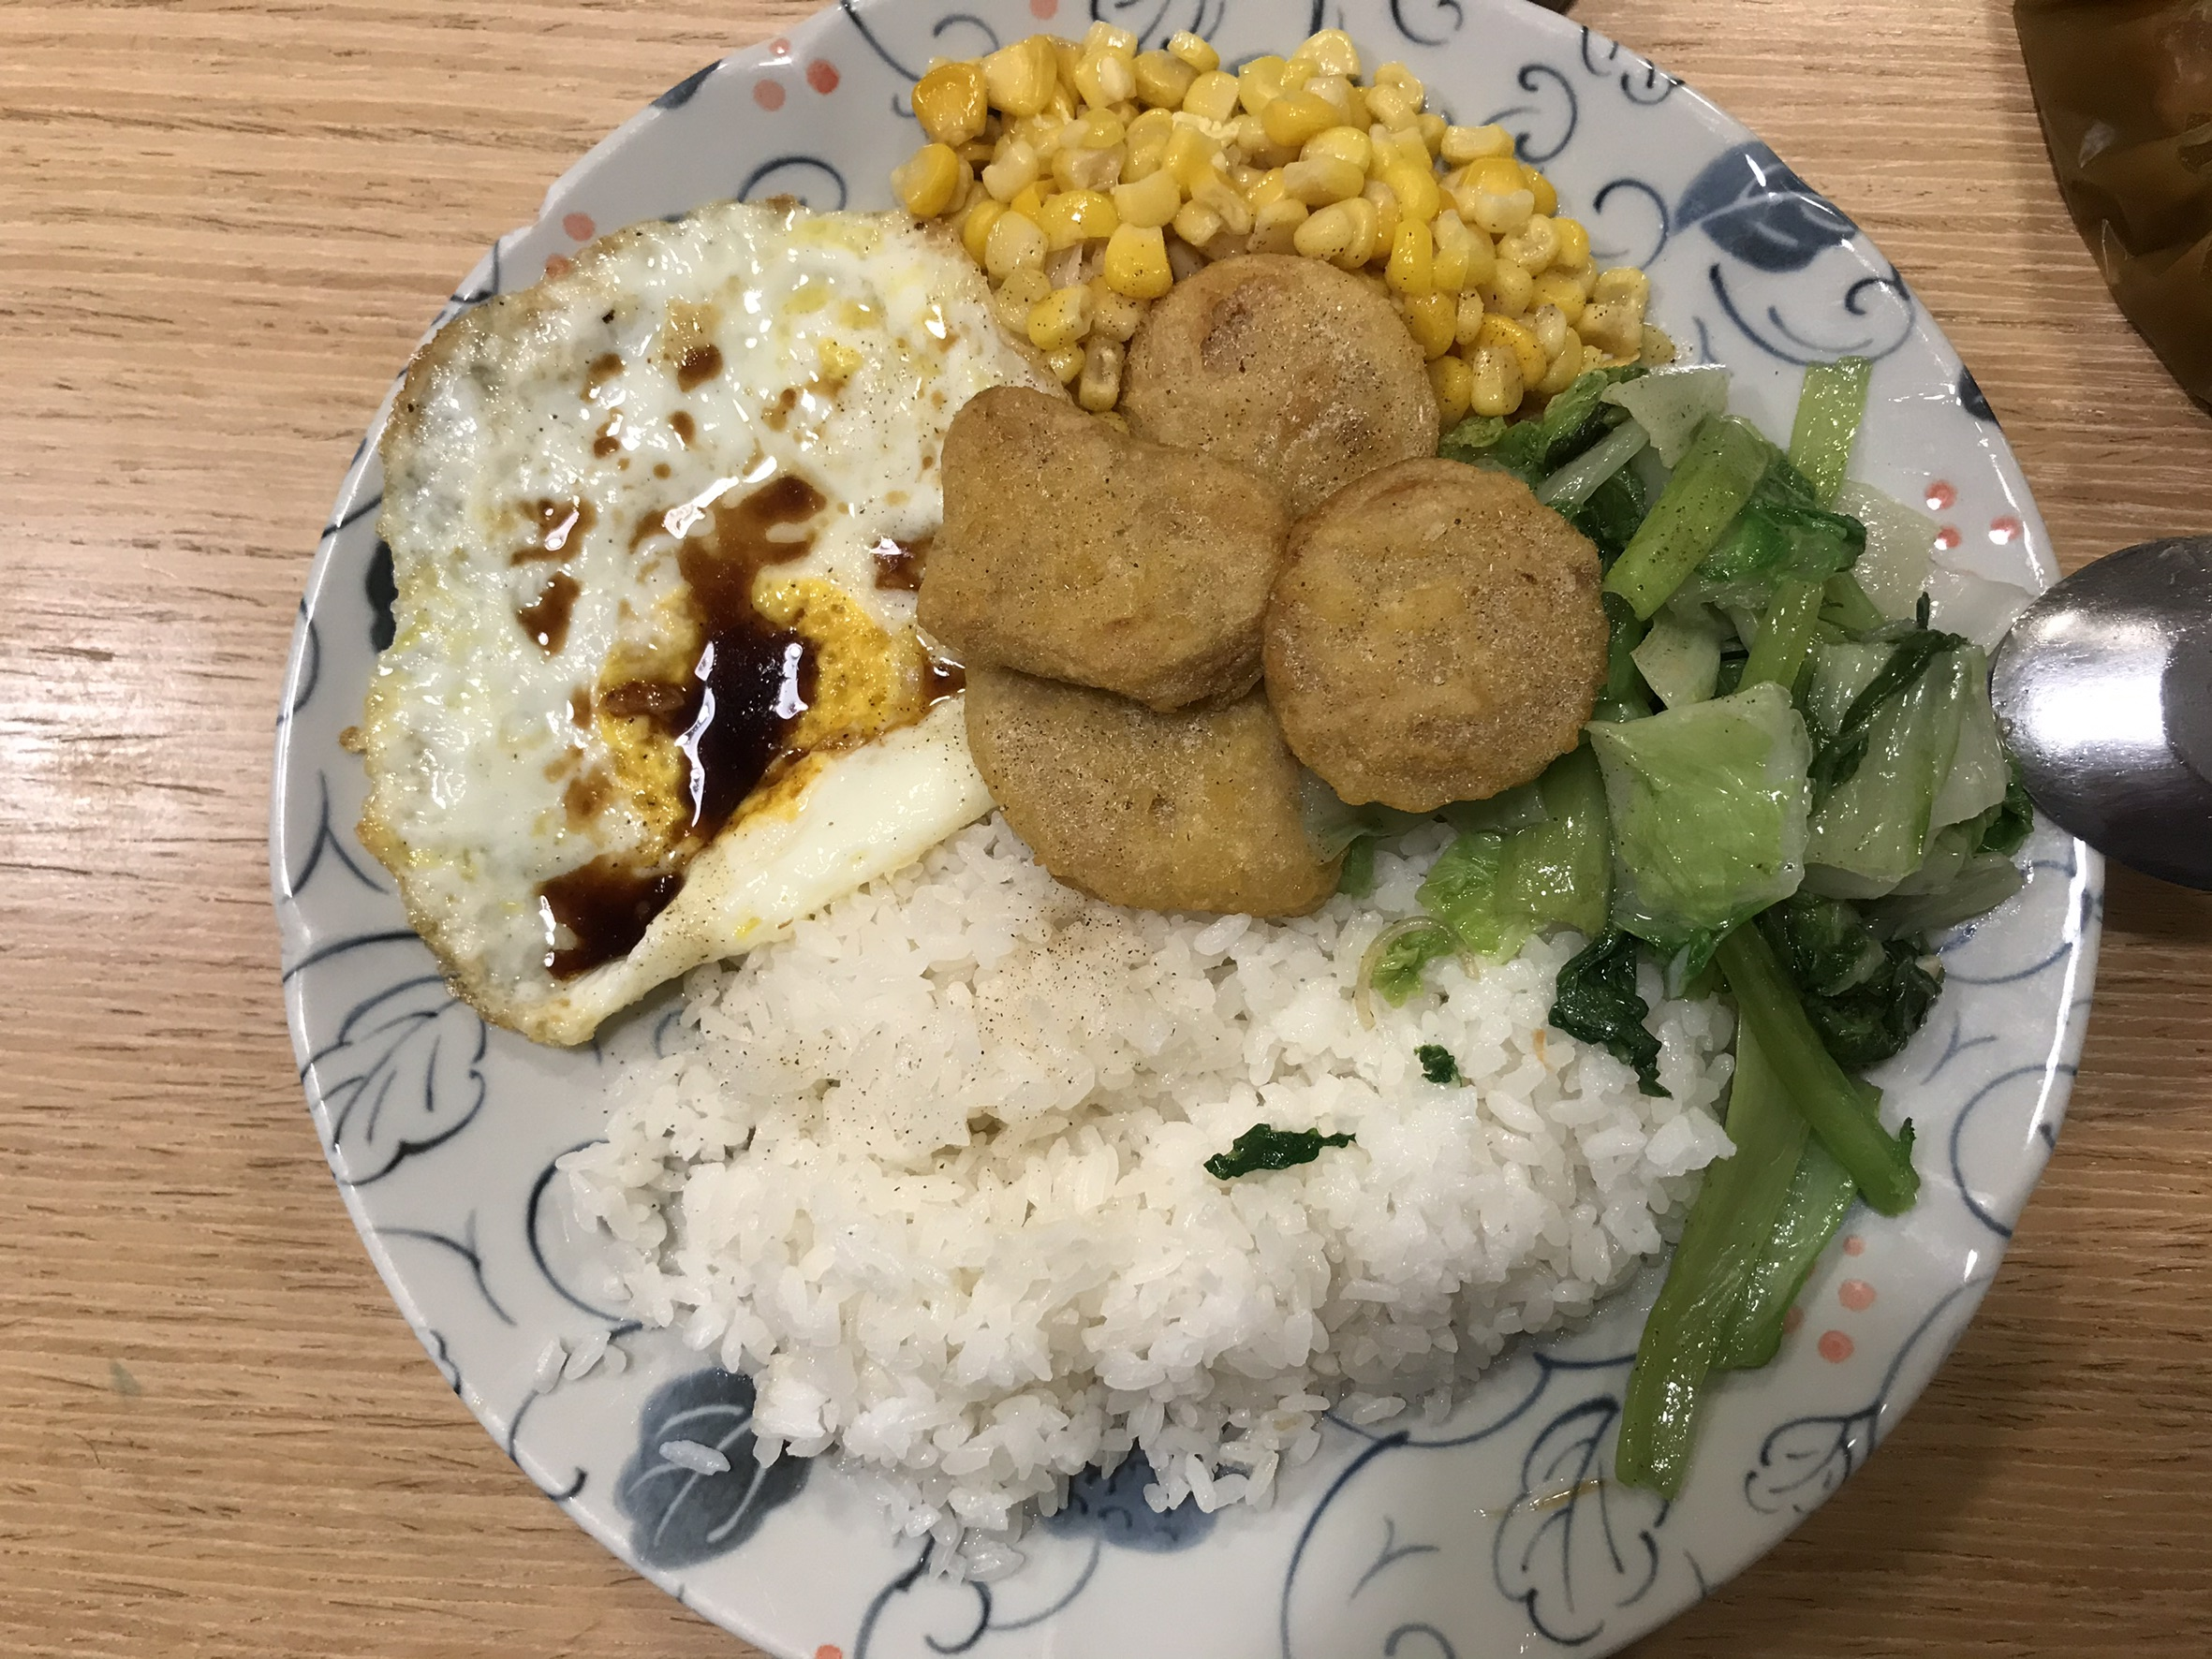chicken_nuggets: (943, 258, 1593, 913)
fried_eggs: (385, 207, 943, 1021)
rice: (739, 915, 1513, 1478)
